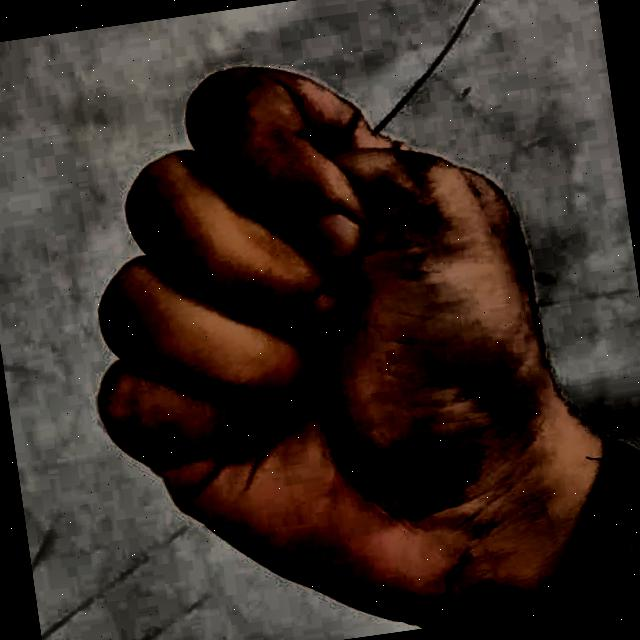To: (38, 12, 604, 640)
